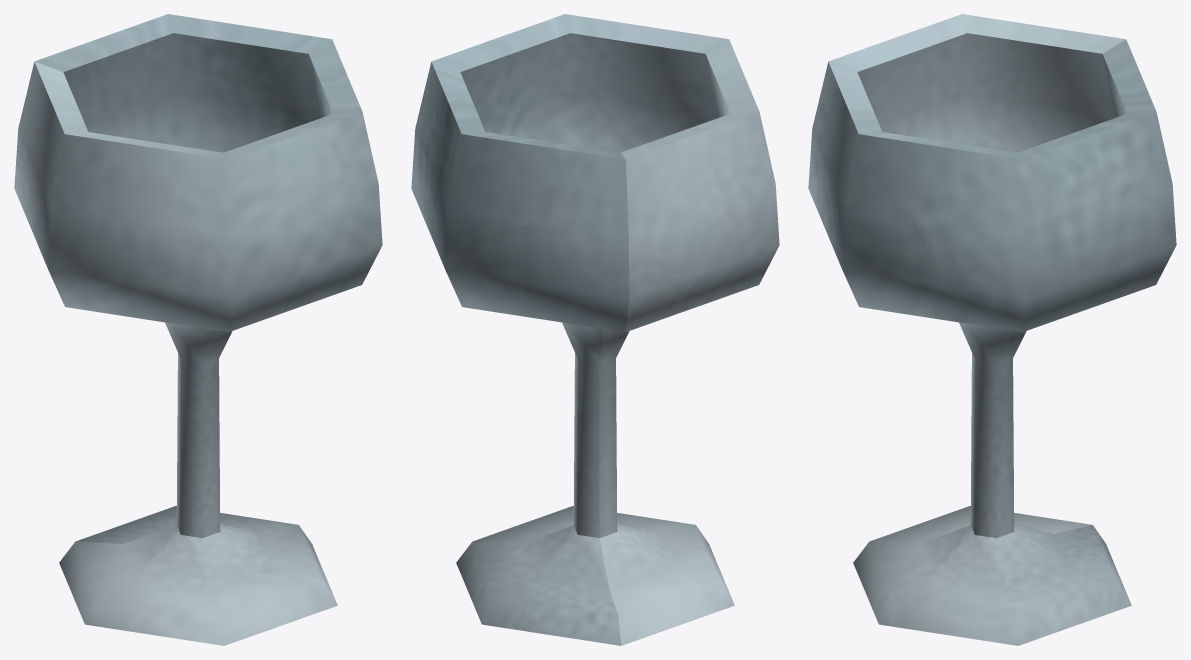
The model's file is M_Verre.FBX.
3 renders of one model, left to right at view 1: azimuth 30°, elevation 25°; view 2: azimuth 150°, elevation 25°; view 3: azimuth 270°, elevation 25°, orthographic.
Parts seen in each view (by area): view 1: verre; view 2: verre; view 3: verre.
Boxes of the visible parts, x1=… form: verre: x1=14, y1=14, x2=382, y2=645; verre: x1=411, y1=14, x2=779, y2=645; verre: x1=808, y1=14, x2=1176, y2=645.
Bounding box in the file's own units: 12.19 × 17.34 × 11.63.
1 material, 1 textured.
